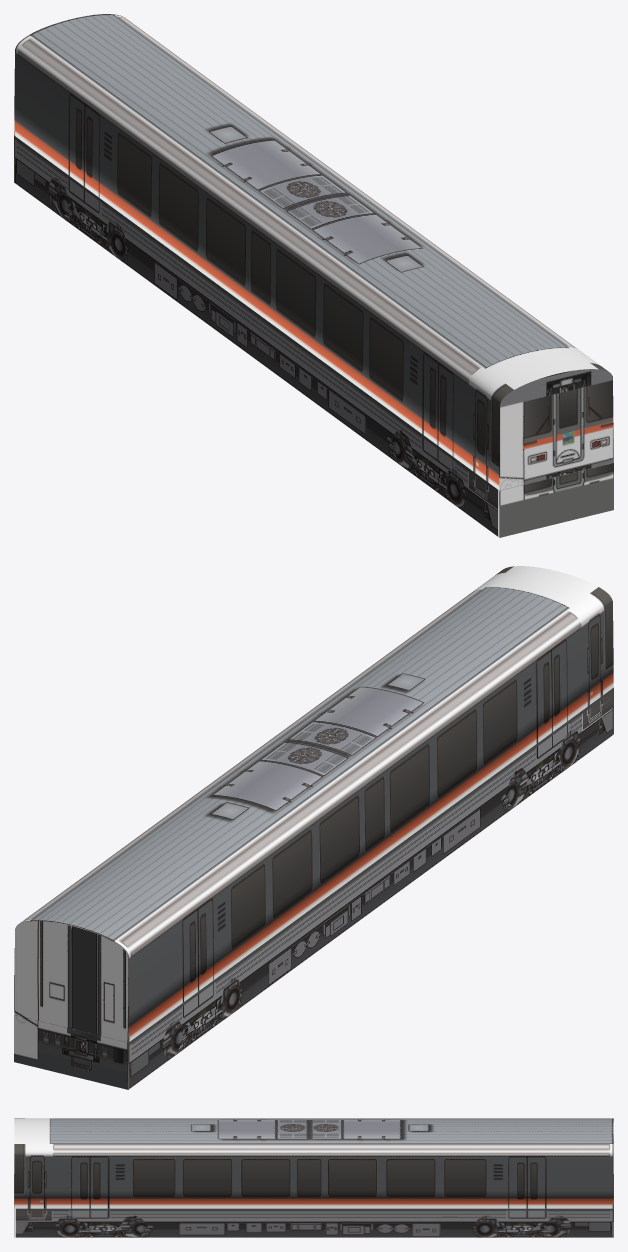
Rendered from car1.glb.
3 renders of one model, top to bottom at view 1: azimuth 30°, elevation 25°; view 2: azimuth 150°, elevation 25°; view 3: azimuth 270°, elevation 25°, orthographic. The views are drawn at different scales.
Parts seen in each view (by area): view 1: jr-tokai-373-car1; view 2: jr-tokai-373-car1; view 3: jr-tokai-373-car1.
Boxes of the visible parts, left/top/right/bottom form: jr-tokai-373-car1: left=14, top=14, right=613, bottom=537; jr-tokai-373-car1: left=14, top=566, right=613, bottom=1089; jr-tokai-373-car1: left=14, top=1118, right=613, bottom=1237.
Bounding box in the file's own units: 2.9 × 3.63 × 21.33.
Materials: 9 (8 with a texture image).
